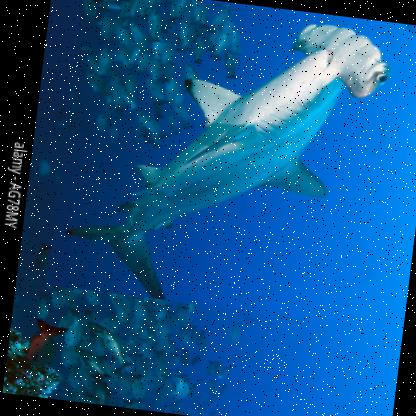hammerhead_Shark: (45, 0, 406, 325)
